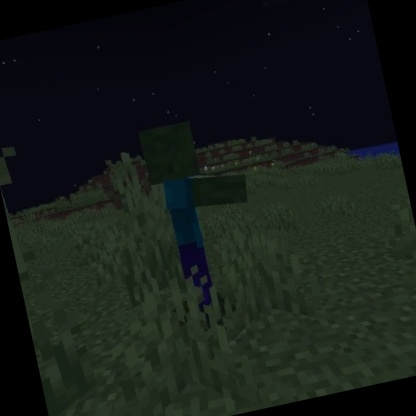zombie: (131, 104, 279, 337)
